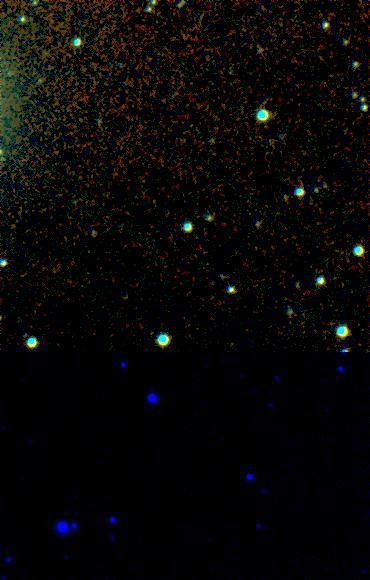star: (29, 38, 59, 68)
